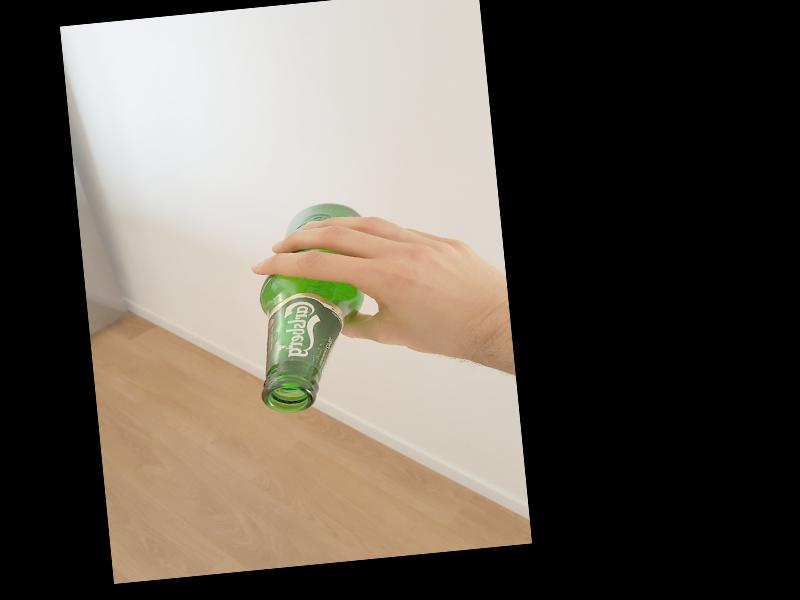Beer: (244, 201, 375, 415)
